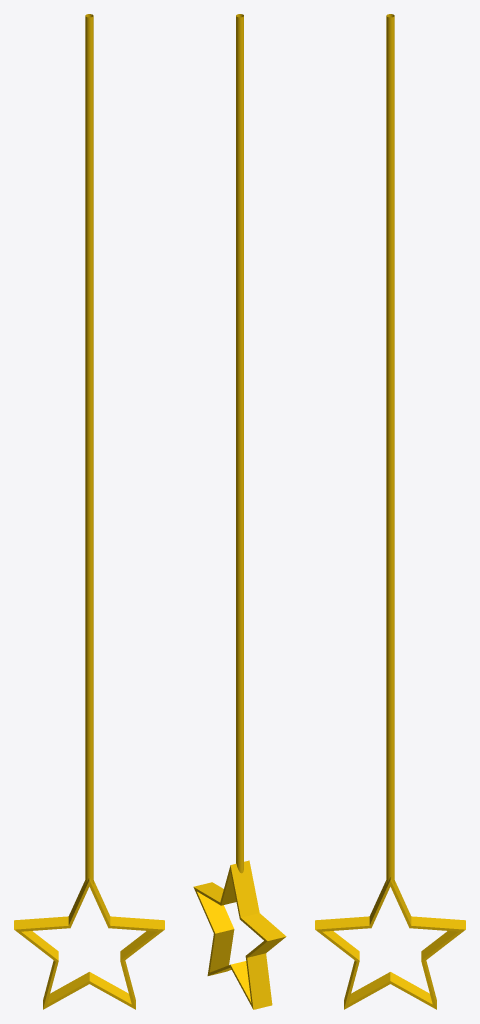
File: cutter2_star.fbx
3 renders of one model, left to right at view 1: azimuth 90°, elevation 25°; view 2: azimuth 210°, elevation 25°; view 3: azimuth 270°, elevation 25°, orthographic.
Visible parts, largest first — view 1: Cutter2_Star; view 2: Cutter2_Star; view 3: Cutter2_Star.
Boxes of the visible parts, bbox=[...] form: Cutter2_Star: bbox=[14, 14, 164, 1009]; Cutter2_Star: bbox=[193, 14, 286, 1009]; Cutter2_Star: bbox=[315, 14, 465, 1009].
Size of the model in its own units: 16.77 by 823 by 114.
